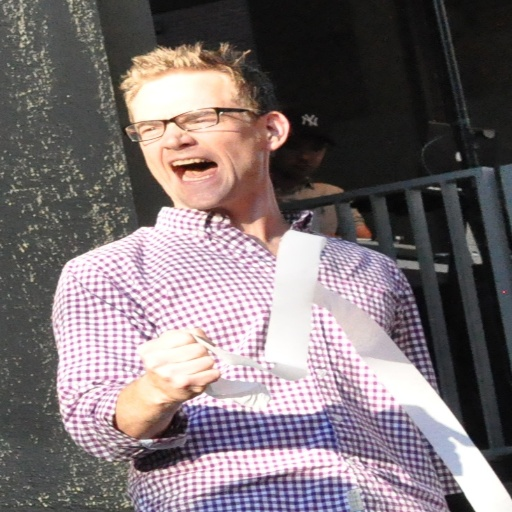hand: (117, 331, 230, 425)
